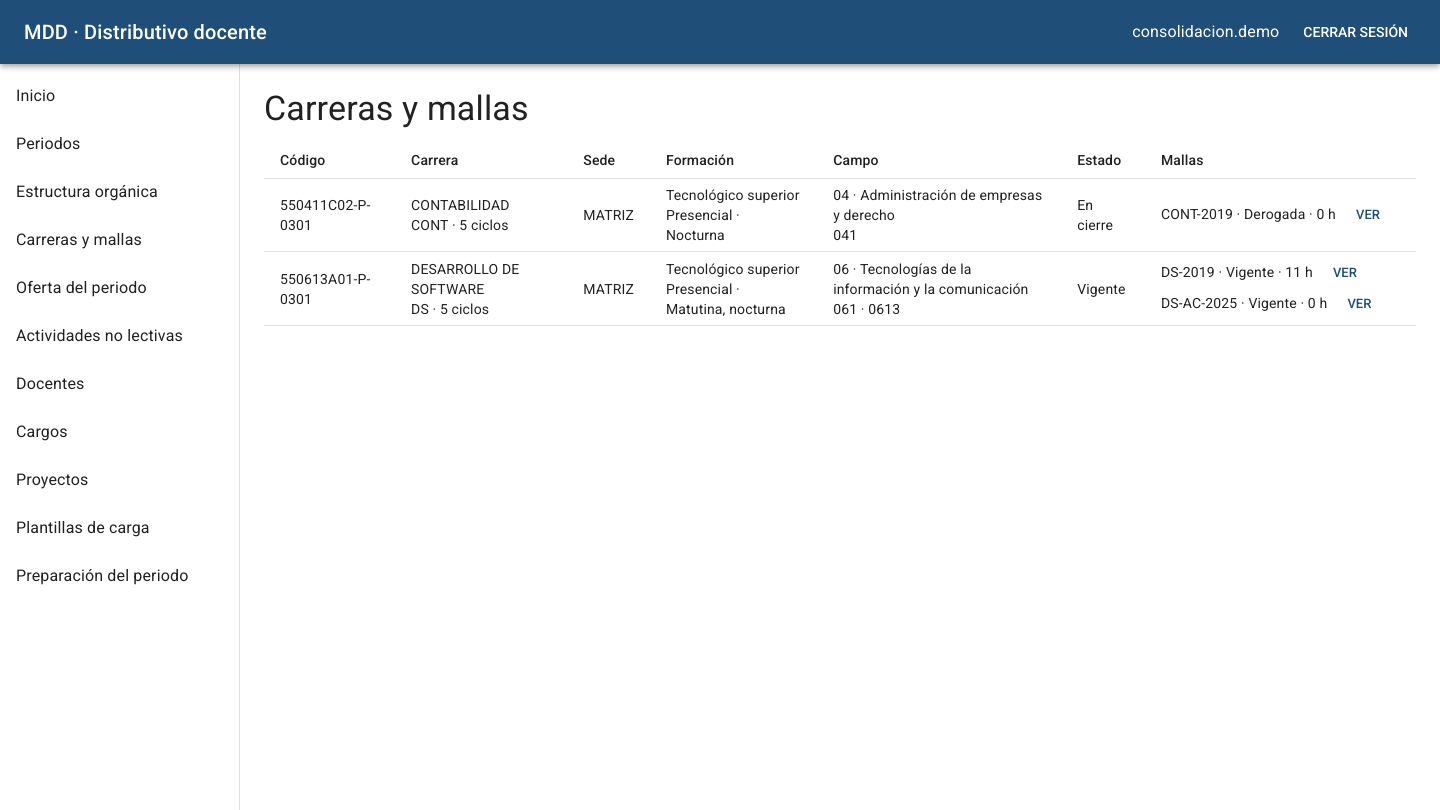
Test: Carreras y mallas › al elegir una malla muestra sus asignaturas por ciclo con las horas y los datos para la afinidad
The image size is (1440, 810).
Step 1. Click the button with aria-label "Ver la malla DS-2019" → point(1345, 273), box left=1313, top=258, right=1377, bottom=289
(page scrolled)
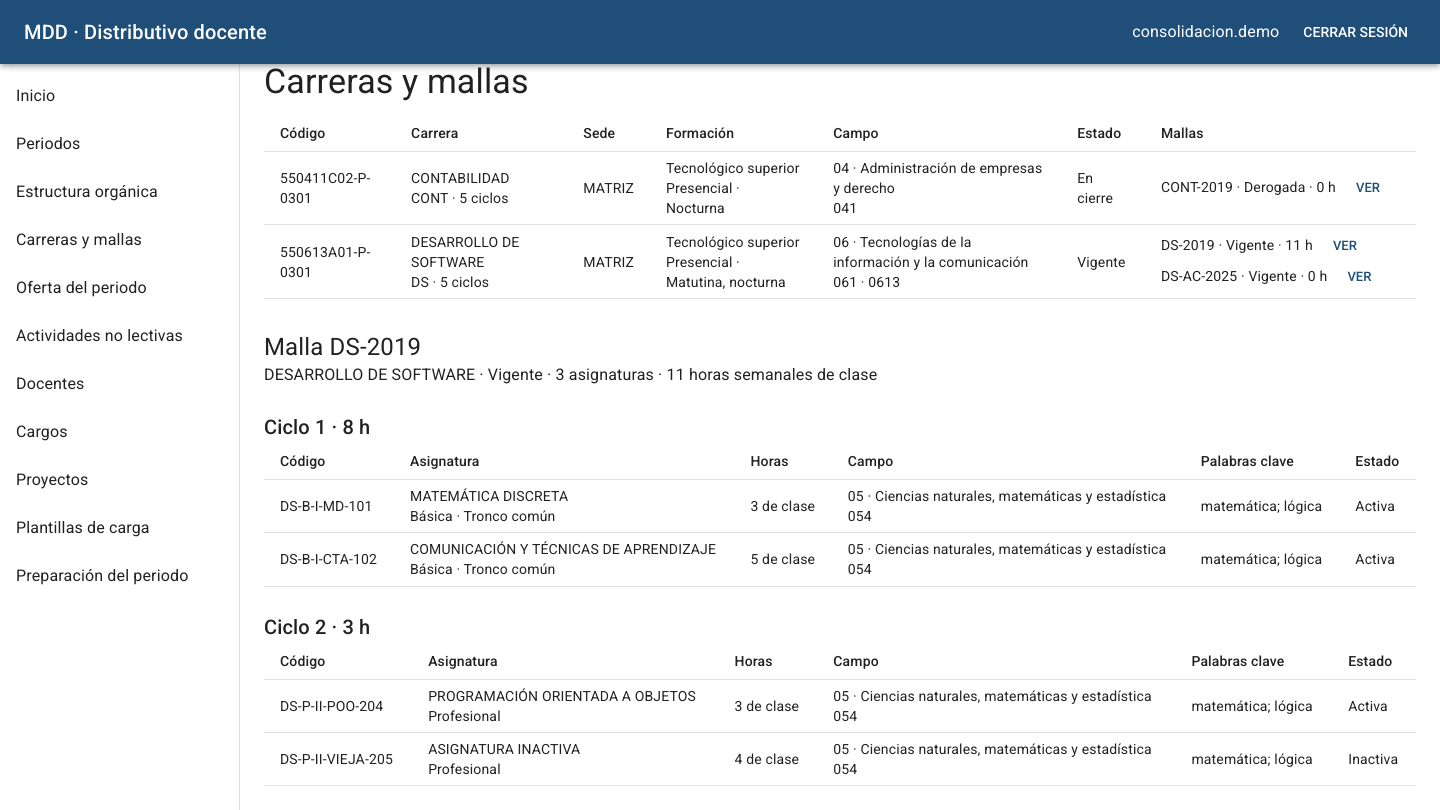
expect the element "Malla DS-2019" shows "3 asignaturas · 11 horas semanales de clase": met, box left=264, top=365, right=877, bottom=384
expect the heading "Ciclo 1 · 8 h" is shown: met, box left=264, top=415, right=370, bottom=439
expect the heading "Ciclo 2 · 3 h" is shown: met, box left=264, top=614, right=370, bottom=638
